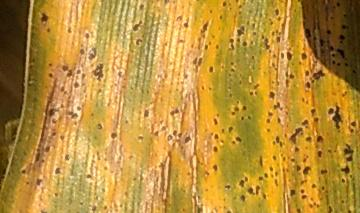tarspot: (331, 103, 343, 130), (288, 126, 303, 144), (342, 143, 355, 163), (92, 63, 106, 81), (191, 55, 204, 74), (284, 69, 295, 89), (130, 19, 144, 32), (334, 46, 346, 60), (312, 69, 326, 80), (199, 20, 210, 34), (87, 46, 97, 61), (348, 118, 360, 130), (47, 107, 61, 117), (272, 101, 284, 112), (227, 37, 236, 51), (66, 111, 80, 120), (245, 186, 256, 197), (39, 12, 49, 24), (340, 163, 350, 175), (302, 165, 312, 177), (263, 35, 271, 50), (196, 34, 203, 50), (53, 166, 64, 176), (42, 145, 53, 155), (230, 106, 240, 117), (169, 108, 181, 117), (236, 25, 245, 37), (285, 49, 293, 62), (183, 16, 191, 29), (88, 203, 98, 213), (142, 108, 151, 119), (211, 163, 220, 174), (270, 50, 279, 61), (303, 27, 311, 39), (267, 90, 275, 102), (258, 153, 264, 169), (315, 134, 324, 144), (63, 153, 73, 162), (304, 135, 313, 145), (72, 80, 81, 90), (176, 37, 186, 46), (299, 177, 308, 187), (227, 124, 235, 135), (301, 153, 309, 164), (318, 36, 325, 48), (110, 131, 119, 140), (183, 135, 192, 144), (175, 14, 184, 23), (61, 64, 70, 73), (252, 81, 261, 90), (35, 177, 43, 187), (234, 135, 244, 143), (96, 122, 104, 132), (309, 107, 317, 117), (212, 132, 220, 142), (289, 188, 297, 198), (303, 68, 311, 78), (300, 118, 310, 126), (293, 144, 301, 154), (267, 16, 275, 26), (66, 24, 73, 35), (138, 2, 145, 13), (254, 185, 261, 196), (326, 106, 334, 115), (207, 65, 215, 74), (340, 23, 349, 31), (324, 28, 333, 36), (316, 149, 324, 158), (47, 71, 55, 80), (211, 117, 219, 126), (294, 163, 302, 172), (136, 133, 145, 141), (274, 35, 282, 44), (337, 33, 347, 40), (319, 168, 329, 175), (239, 193, 246, 203), (279, 50, 286, 60), (279, 151, 286, 161), (305, 80, 311, 91), (275, 133, 281, 144), (135, 38, 143, 46), (347, 127, 355, 135), (223, 182, 231, 190), (75, 104, 83, 112), (58, 134, 66, 142), (188, 41, 196, 49), (241, 40, 248, 49), (326, 204, 333, 213), (300, 51, 307, 60), (273, 7, 280, 16), (318, 47, 327, 54), (80, 73, 87, 82), (166, 134, 173, 143), (203, 43, 210, 52), (273, 178, 280, 187), (152, 129, 159, 138), (238, 178, 244, 188), (46, 61, 56, 67), (39, 207, 49, 213), (250, 21, 256, 31), (85, 173, 93, 180), (212, 145, 219, 153), (241, 105, 249, 112), (83, 32, 90, 40), (78, 48, 86, 55), (266, 109, 273, 117), (245, 114, 252, 122), (242, 175, 249, 183), (75, 67, 82, 75), (177, 131, 184, 139), (228, 66, 235, 74), (257, 174, 264, 182), (50, 131, 58, 138), (289, 156, 296, 164), (220, 64, 227, 72), (237, 79, 244, 87), (52, 190, 60, 197), (264, 171, 269, 182), (328, 44, 334, 53), (300, 194, 309, 200), (261, 191, 267, 200), (218, 13, 224, 22), (214, 42, 220, 51), (265, 117, 271, 126), (249, 38, 255, 47), (307, 200, 313, 209), (20, 168, 27, 175), (335, 1, 342, 8), (230, 139, 237, 146), (312, 116, 319, 123), (350, 68, 357, 75), (310, 183, 317, 190), (295, 206, 302, 213), (228, 59, 235, 66), (78, 200, 85, 207), (45, 26, 51, 34), (340, 176, 346, 184), (342, 12, 348, 20), (221, 1, 227, 9), (66, 69, 72, 77), (116, 70, 122, 78), (278, 140, 284, 148), (271, 139, 277, 147), (274, 171, 280, 179), (210, 33, 216, 41), (237, 3, 243, 11), (160, 125, 166, 133), (158, 117, 164, 125), (354, 85, 360, 93), (250, 53, 255, 62), (183, 71, 188, 80), (22, 180, 31, 185), (338, 39, 344, 46), (335, 61, 341, 68), (340, 198, 346, 205), (320, 184, 326, 191), (299, 187, 305, 194), (325, 38, 331, 45), (239, 114, 245, 121), (248, 90, 254, 97), (266, 126, 272, 133), (267, 164, 273, 171), (59, 85, 65, 92), (314, 202, 321, 208), (123, 118, 129, 125), (97, 86, 103, 93), (325, 147, 331, 154), (244, 20, 250, 27), (102, 164, 108, 171), (276, 115, 281, 123), (199, 83, 204, 91), (272, 154, 277, 162), (305, 98, 310, 106), (328, 15, 336, 20), (330, 52, 336, 58), (342, 61, 348, 67), (235, 37, 241, 43), (251, 30, 257, 36), (89, 111, 95, 117), (300, 95, 304, 104), (237, 10, 243, 16), (163, 1, 170, 6), (208, 8, 213, 15), (172, 129, 177, 136), (207, 85, 212, 92), (235, 98, 240, 105), (228, 92, 233, 99), (226, 85, 233, 90), (225, 209, 232, 213), (331, 59, 335, 65), (346, 209, 352, 213), (296, 1, 302, 4), (233, 1, 239, 3)
